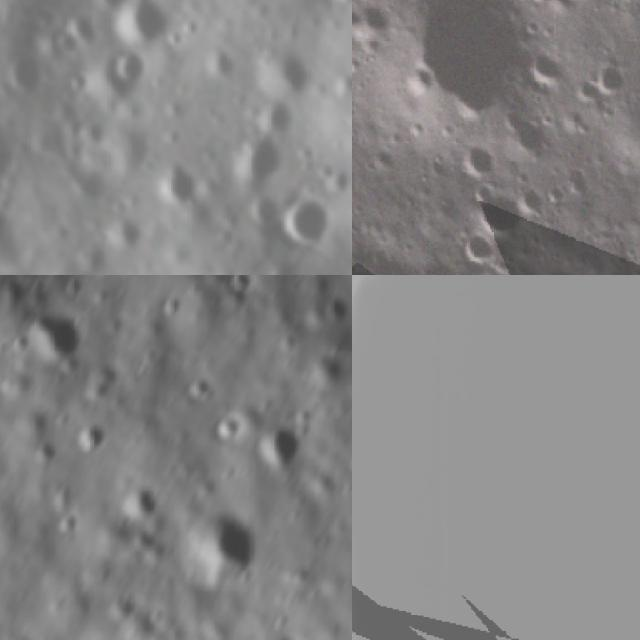crater: (376, 0, 560, 139), (214, 120, 308, 210), (244, 33, 330, 117), (266, 183, 351, 266), (93, 0, 189, 72), (184, 507, 259, 586), (142, 151, 216, 224), (0, 85, 45, 203), (465, 176, 536, 249), (92, 40, 162, 110), (94, 203, 163, 272), (496, 94, 559, 168), (0, 41, 59, 115), (24, 309, 90, 364), (584, 49, 639, 105), (523, 45, 577, 100), (249, 422, 305, 473), (454, 220, 504, 274), (352, 0, 404, 50), (453, 138, 504, 185), (515, 253, 610, 275), (117, 478, 164, 522), (303, 352, 348, 395), (560, 160, 601, 205), (361, 135, 402, 180), (540, 172, 572, 214), (212, 409, 242, 447), (318, 294, 351, 328), (74, 419, 106, 454), (182, 374, 215, 404), (50, 506, 79, 540), (0, 278, 28, 307), (31, 439, 60, 467), (5, 331, 29, 362), (226, 275, 252, 294), (352, 154, 363, 196), (525, 0, 562, 10)
